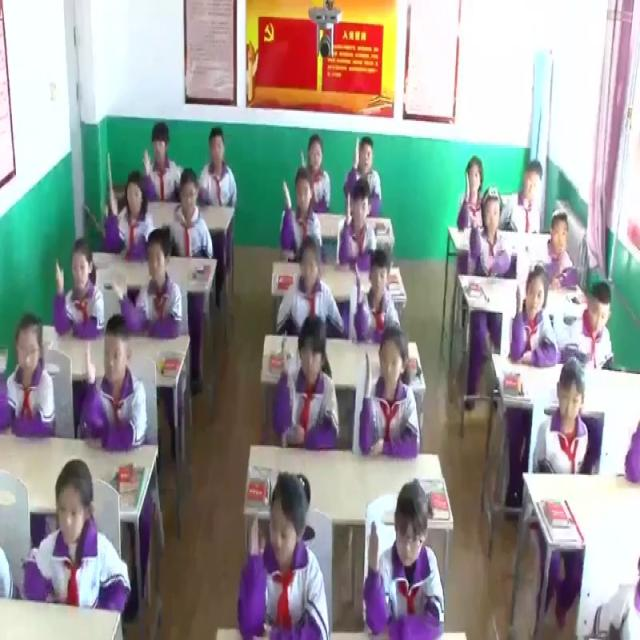focused: (28, 462, 127, 616), (274, 238, 346, 345), (536, 360, 590, 476), (163, 169, 213, 260), (542, 210, 585, 300), (502, 158, 547, 241), (573, 282, 616, 368), (200, 130, 238, 208)
raising_hand: (238, 471, 331, 640), (367, 472, 453, 640), (272, 309, 342, 458), (80, 320, 152, 458), (106, 225, 184, 341), (361, 328, 418, 464), (0, 313, 57, 437), (50, 241, 104, 344), (511, 264, 560, 372), (102, 173, 157, 255), (466, 188, 513, 280), (351, 252, 399, 342), (339, 178, 380, 276), (282, 170, 324, 264), (141, 120, 185, 208), (346, 138, 386, 219), (456, 156, 494, 239), (300, 134, 333, 215)
